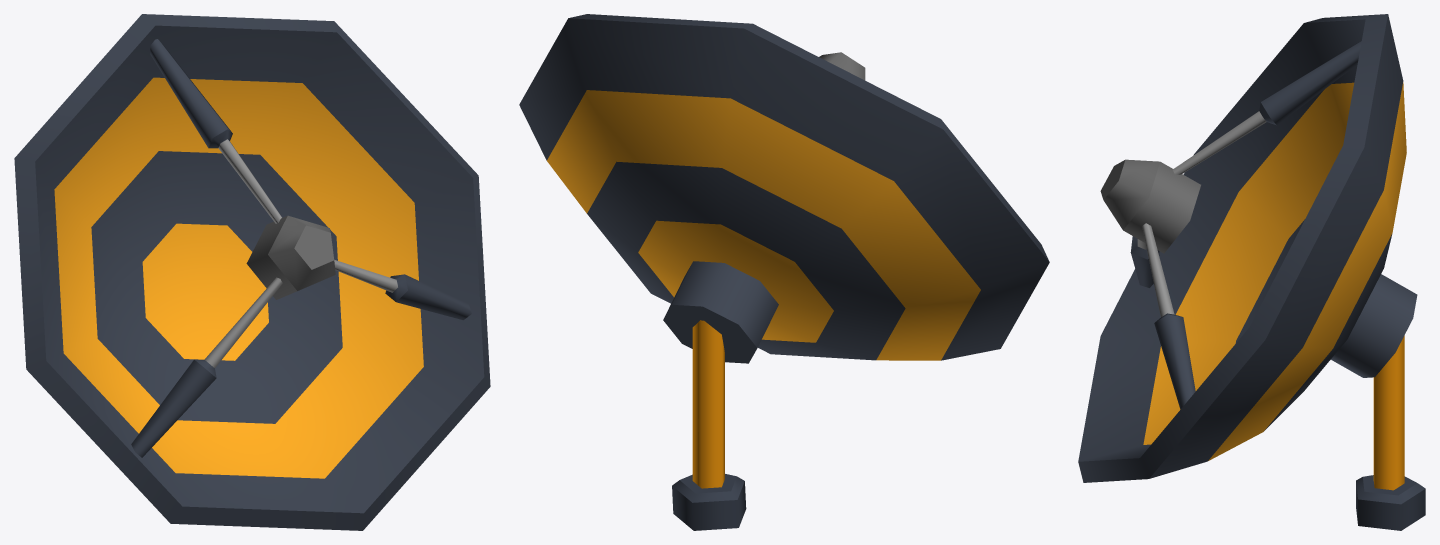
File: Antene_2_G.fbx
3 views of the same model, side by side, from view 1: azimuth 30°, elevation 25°; view 2: azimuth 150°, elevation 25°; view 3: azimuth 270°, elevation 25° (orthographic). The views are drawn at different scales.
Parts seen in each view (by area): view 1: Antene_2_G_1; view 2: Antene_2_G_1, Antene_2_G_1h; view 3: Antene_2_G_1, Antene_2_G_1h.
Part boxes in pixels (x1,y1,x2,y2): Antene_2_G_1: (14,14,490,530); Antene_2_G_1: (519,14,1049,363); Antene_2_G_1h: (672,320,746,530); Antene_2_G_1: (1078,14,1417,482); Antene_2_G_1h: (1356,335,1425,530).
Size of the model in its own units: 1.42 by 1.34 by 0.8686.
